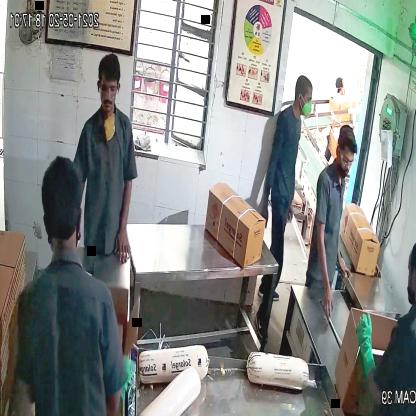goggles: (95, 78, 124, 100), (336, 147, 358, 170)
